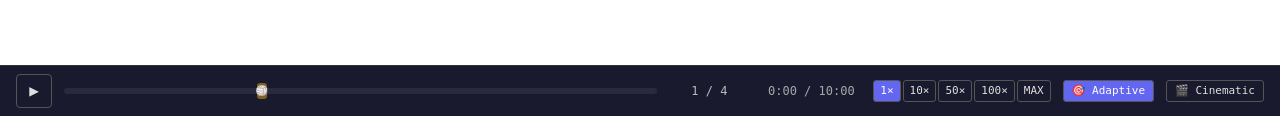
Test: ReplayControls chapter tooltip time › chapter at actual 5-minute mark shows 5:00 regardless of event distribution
Hover over the button "🏐" at (262, 91), box 257,83 -> 267,99
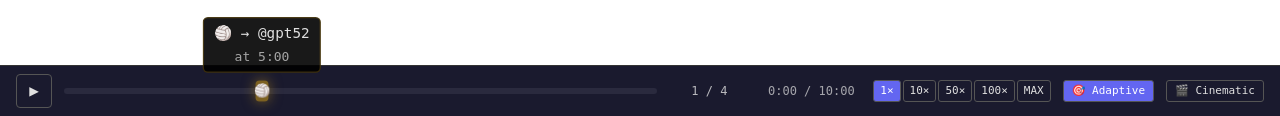
Expected: the tooltip "🏐 → @gpt52 at 5:00" is shown, 202,16 -> 321,73
